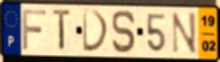5: (145, 12, 168, 53)
D: (81, 8, 111, 54)
F: (21, 8, 48, 51)
N: (171, 11, 198, 56)
S: (111, 9, 138, 55)
T: (52, 8, 74, 54)
